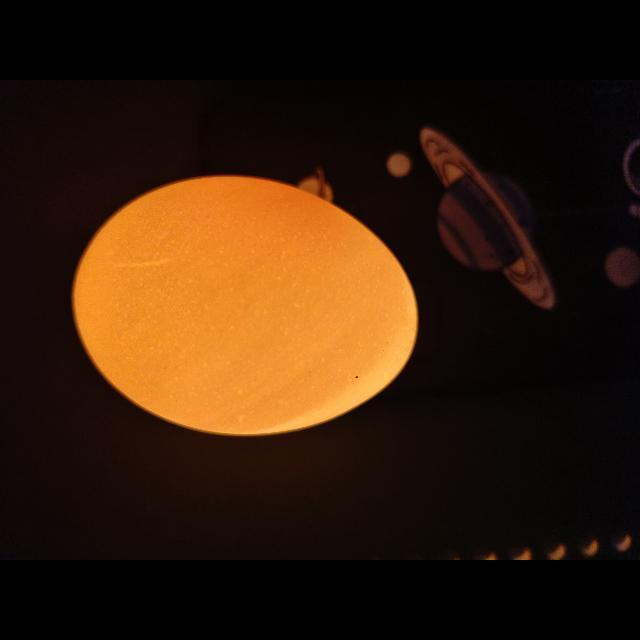AA - Premium: (73, 176, 418, 435)
